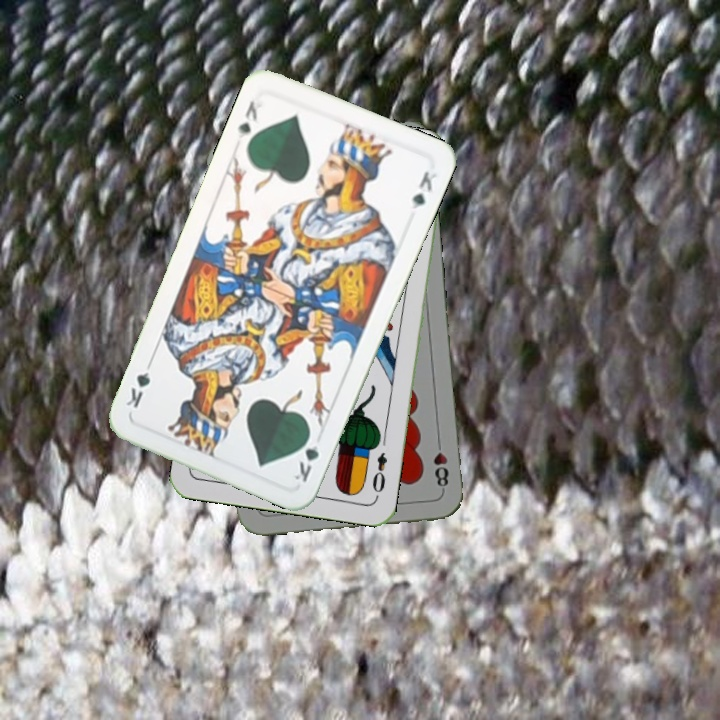EO: (368, 448, 390, 495)
GK: (290, 427, 323, 485), (234, 97, 261, 143)
H8: (429, 435, 451, 494)
